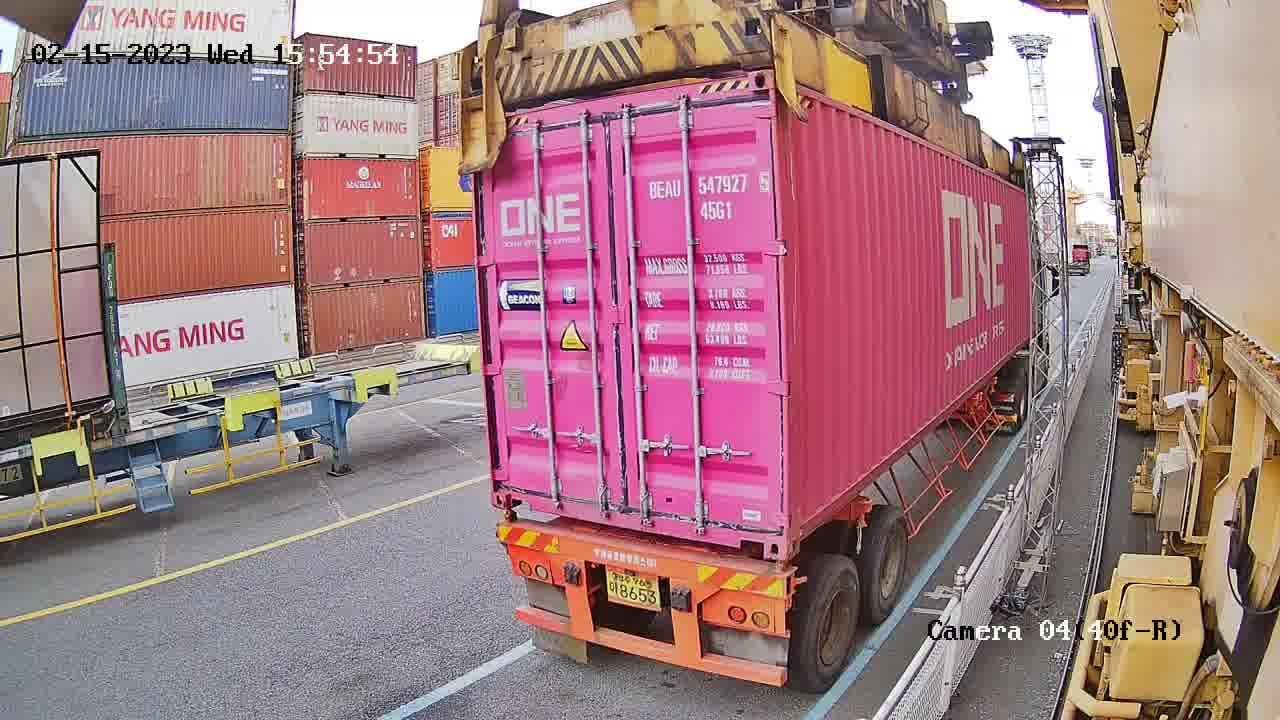Chassis: (500, 524, 788, 636)
Cone: (778, 556, 800, 601), (494, 512, 518, 544)
Hole_L: (786, 488, 827, 563), (490, 470, 531, 514)
Hole_R: (731, 501, 788, 557)
Tire: (803, 559, 862, 679), (862, 509, 910, 618)
